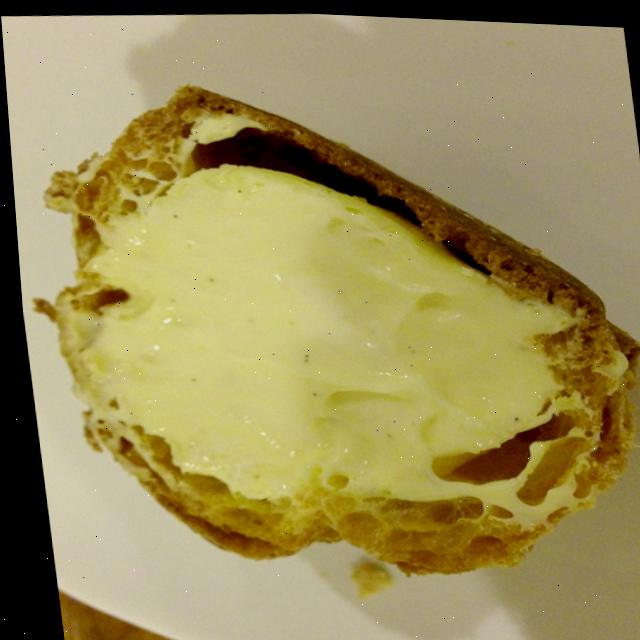炸货点心: (1, 17, 640, 640)
蛋糕甜品: (1, 17, 640, 640)
